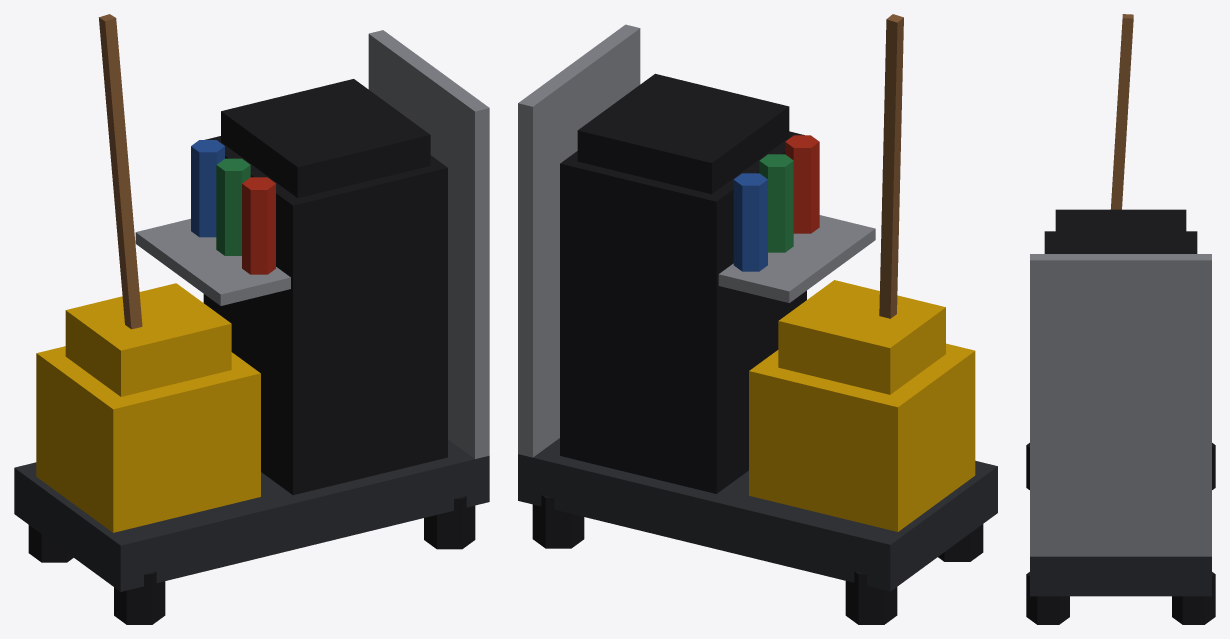
The model's file is prop_cleaner-trolley.5605e3d1d87d.glb.
3 views of the same model, side by side, from view 1: azimuth 30°, elevation 25°; view 2: azimuth 150°, elevation 25°; view 3: azimuth 270°, elevation 25° (orthographic). The views are drawn at different scales.
Parts seen in each view (by area): view 1: body; view 2: body; view 3: body.
Part boxes in pixels (x1=…): body: x1=14, y1=14, x2=489, y2=624; body: x1=518, y1=14, x2=997, y2=624; body: x1=1026, y1=14, x2=1215, y2=624.
Bounding box in the file's own units: 1 × 1.45 × 0.52.
